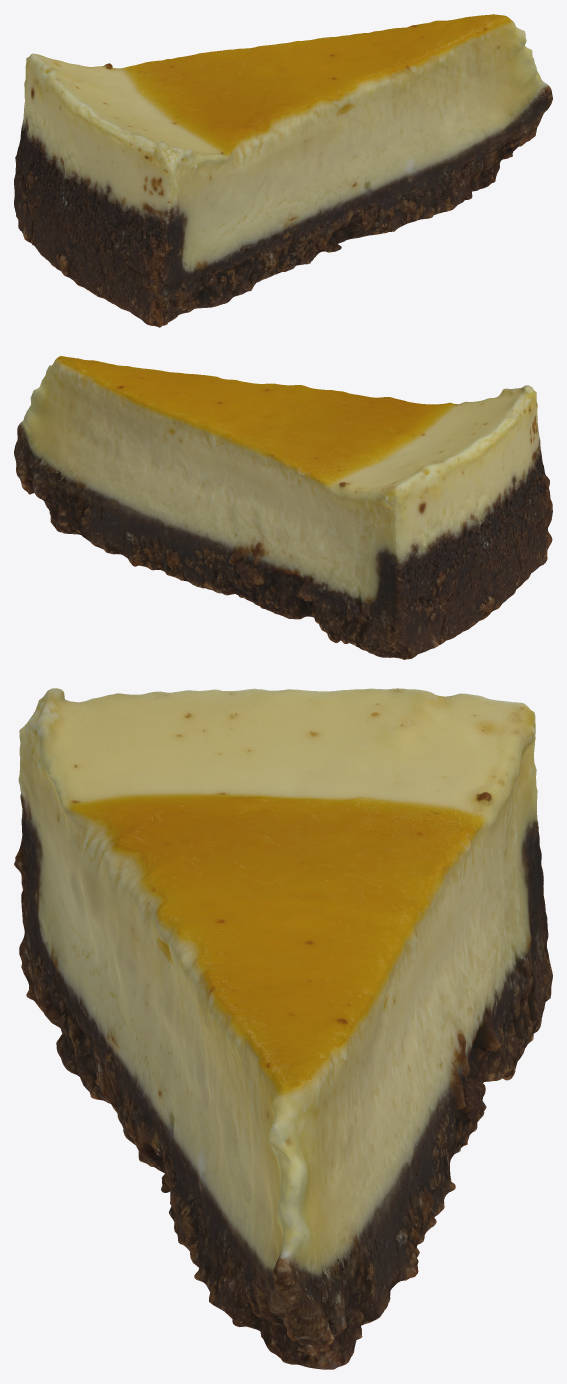
File: cheesem.glb
3 views of the same model, one above another, from view 1: azimuth 30°, elevation 25°; view 2: azimuth 150°, elevation 25°; view 3: azimuth 270°, elevation 25° (orthographic). The views are drawn at different scales.
Visible parts, largest first — view 1: Model; view 2: Model; view 3: Model.
Boxes of the visible parts, x1,y1,x2,y2 form: Model: (14,14,552,327); Model: (14,356,552,659); Model: (14,688,552,1369).
Bounding box in the file's own units: 8.27 × 3.01 × 4.44.
Materials: 2 (2 with a texture image).
